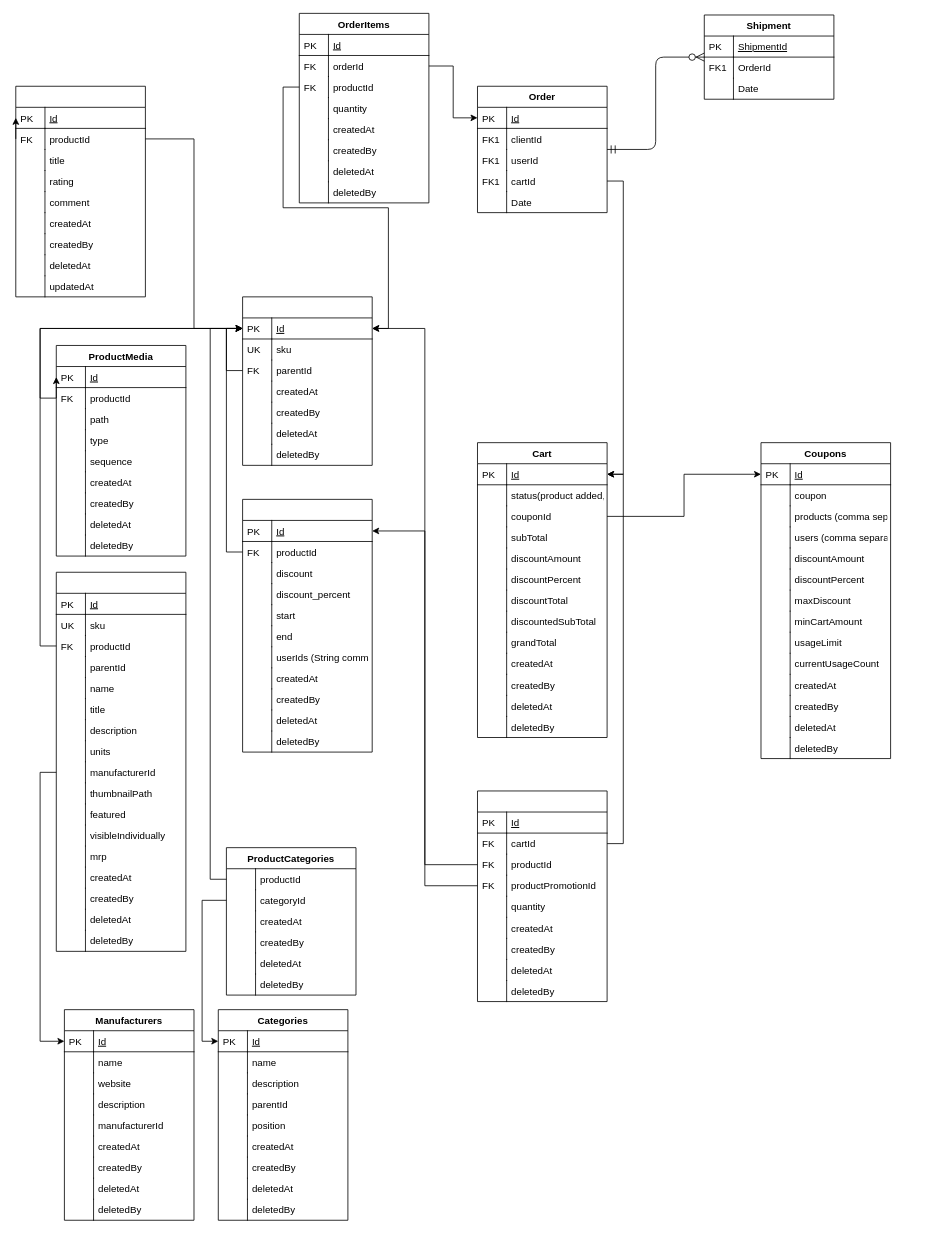
The diagram is 948 pixels wide and 1234 high, and some of its shapes have lost their labels. The shapes that lost their labels are listed below. From the top down, each one's box as (x1, y1, x2, y2) in pixels, then its label:
(15, 85, 145, 297): ProductReview
(242, 296, 372, 465): Product
(242, 499, 372, 752): ProductPromotions
(55, 571, 186, 951): ProductDetails
(477, 790, 607, 1002): CartItems
